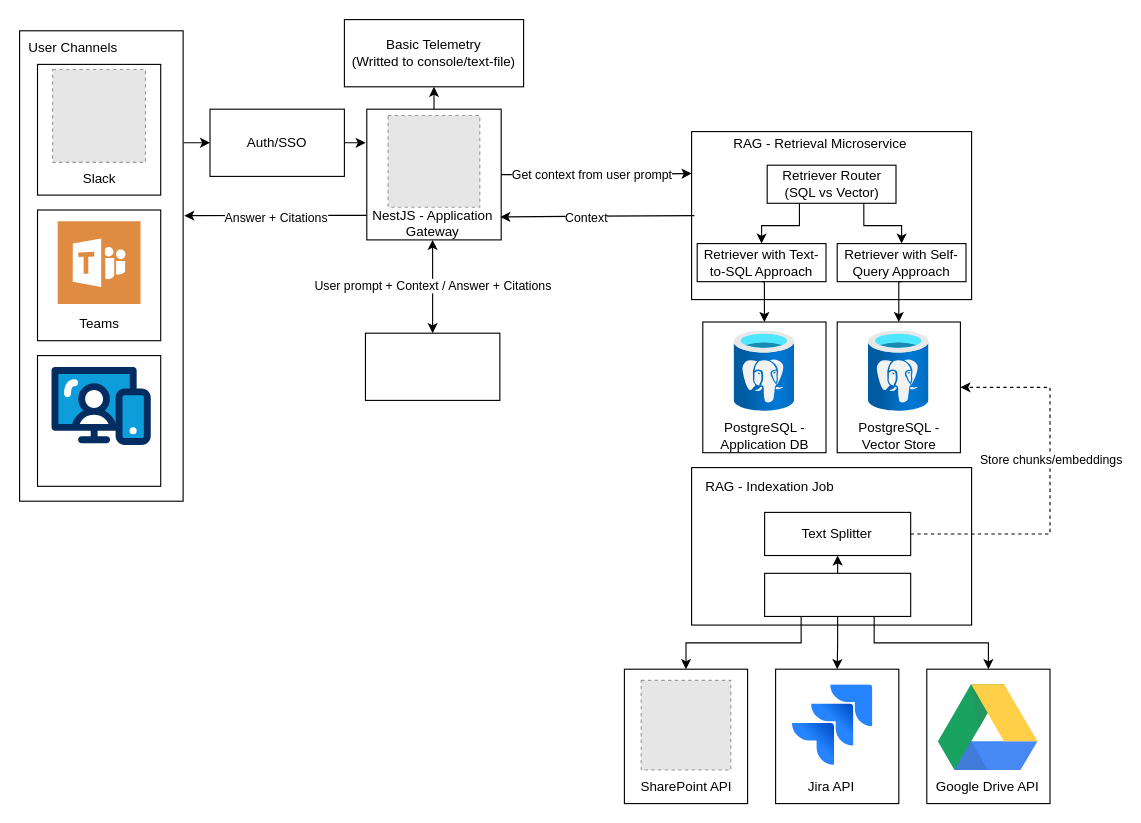
Some shapes in this 1141 by 823 pixel diagram are drawn without their labels. Grey dashed boxes stand in for pictures. Each missing label, with the centre of its shape:
"Document Loaders" belongs at (837,594).
"LLM" belongs at (432,366).
"Web App" belongs at (98,420).
